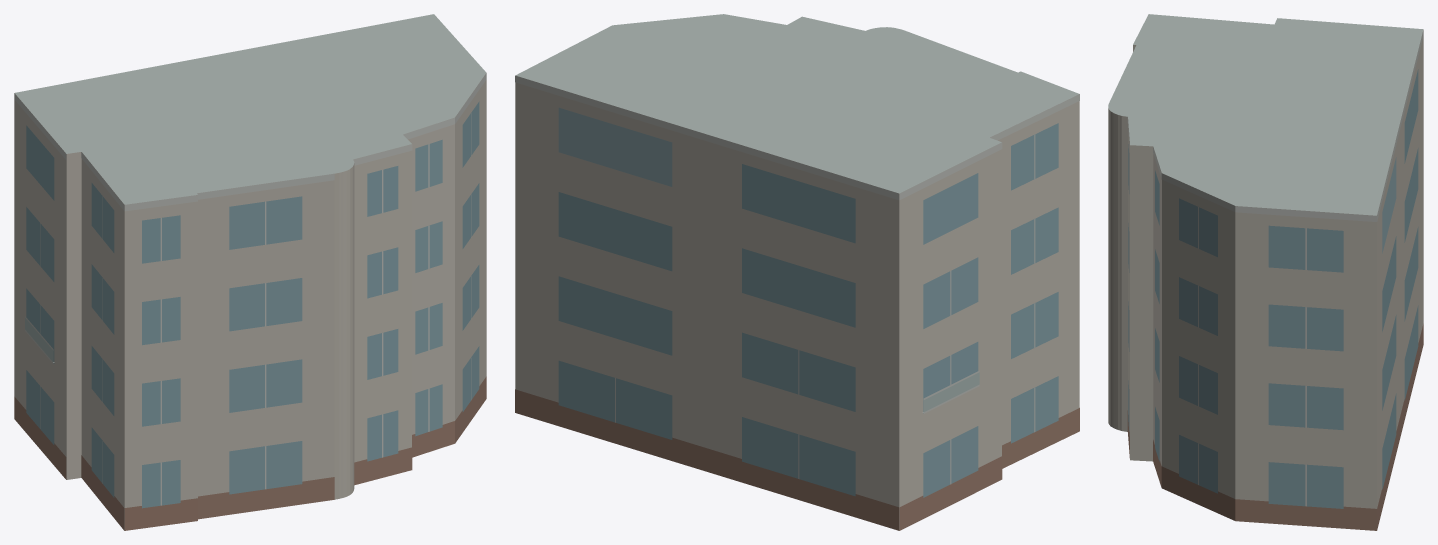
The model's file is survey-upis-32645670.glb.
The picture shows the model from 3 angles, left to right: view 1: azimuth 30°, elevation 25°; view 2: azimuth 150°, elevation 25°; view 3: azimuth 270°, elevation 25°; orthographic projection. The views are drawn at different scales.
Visible parts, largest first — view 1: survey-upis-32645670.tmp; view 2: survey-upis-32645670.tmp; view 3: survey-upis-32645670.tmp.
Boxes of the visible parts, x1,y1,x2,y2 form: survey-upis-32645670.tmp: (14, 14, 486, 530); survey-upis-32645670.tmp: (515, 14, 1079, 530); survey-upis-32645670.tmp: (1108, 14, 1423, 530).
Bounding box in the file's own units: 16.48 × 12 × 10.89.
